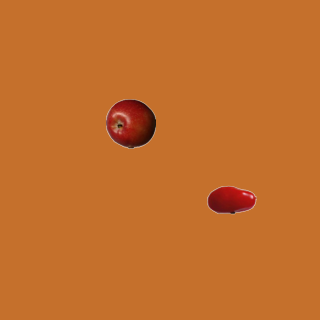Apple Braeburn: (105, 98, 155, 148)
Tomato 2: (206, 174, 256, 224)
